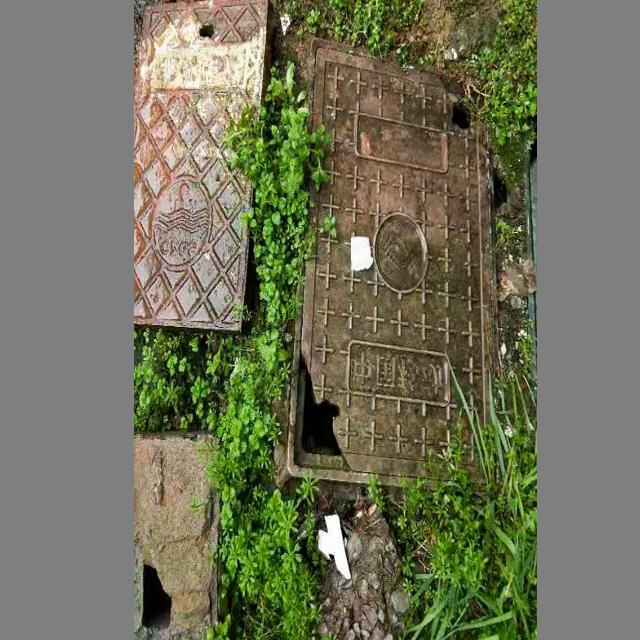broke: (287, 37, 492, 491)
